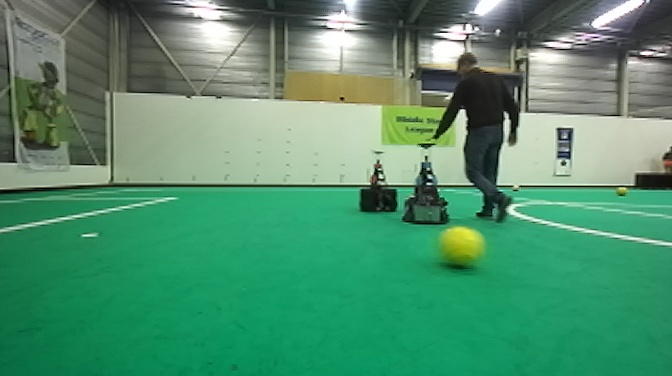ball: (436, 224, 486, 272), (616, 184, 630, 197), (509, 181, 523, 194)
human: (428, 50, 523, 225)
robot: (401, 141, 453, 227), (358, 150, 399, 214)
